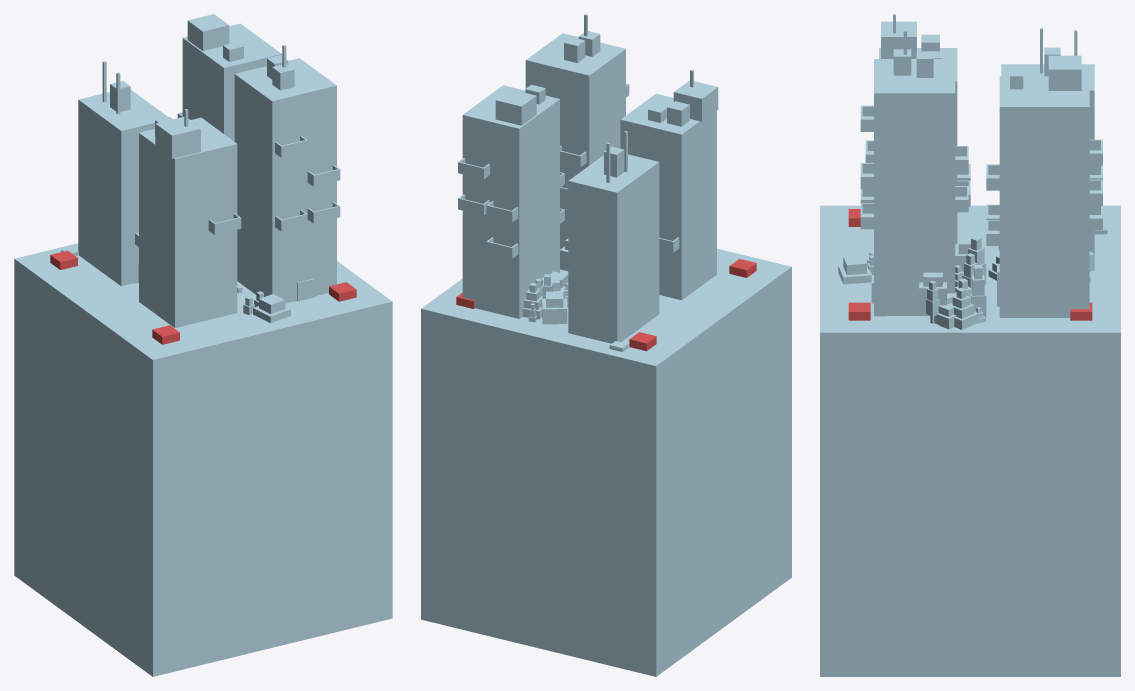
File: block_24_sewersystem_100.glb
3 views of the same model, side by side, from view 1: azimuth 30°, elevation 25°; view 2: azimuth 150°, elevation 25°; view 3: azimuth 270°, elevation 25° (orthographic). The views are drawn at different scales.
Parts seen in each view (by area): view 1: Patch_UpperRight_b24_SL, ResidBldgs_b24_SL, SL_Net_24, URTree_24_17_SL; view 2: Patch_UpperRight_b24_SL, ResidBldgs_b24_SL, SL_Net_24, URTree_24_0_SL, Roads_UpperRight_b24_SL; view 3: Patch_UpperRight_b24_SL, ResidBldgs_b24_SL, SL_Net_24, Green_UpperRight_b24_SL, URTree_24_17_SL, URTree_24_28_SL, URTree_24_25_SL, URTree_24_19_SL.
Part boxes in pixels (bbox=[...]): Patch_UpperRight_b24_SL: bbox=[14, 243, 392, 676]; ResidBldgs_b24_SL: bbox=[78, 14, 340, 327]; SL_Net_24: bbox=[50, 250, 356, 344]; URTree_24_17_SL: bbox=[253, 294, 290, 322]; Patch_UpperRight_b24_SL: bbox=[421, 248, 791, 676]; ResidBldgs_b24_SL: bbox=[458, 14, 718, 343]; SL_Net_24: bbox=[456, 259, 756, 351]; URTree_24_0_SL: bbox=[542, 291, 567, 324]; Roads_UpperRight_b24_SL: bbox=[421, 304, 791, 391]; Patch_UpperRight_b24_SL: bbox=[820, 205, 1120, 676]; ResidBldgs_b24_SL: bbox=[860, 14, 1102, 317]; SL_Net_24: bbox=[848, 209, 1092, 320]; Green_UpperRight_b24_SL: bbox=[885, 281, 992, 330]; URTree_24_17_SL: bbox=[838, 255, 871, 284]; URTree_24_28_SL: bbox=[948, 287, 978, 329]; URTree_24_25_SL: bbox=[919, 272, 947, 305]; URTree_24_19_SL: bbox=[971, 265, 986, 317].
Bounding box in the file's own units: 9.5 × 21.24 × 9.5.
